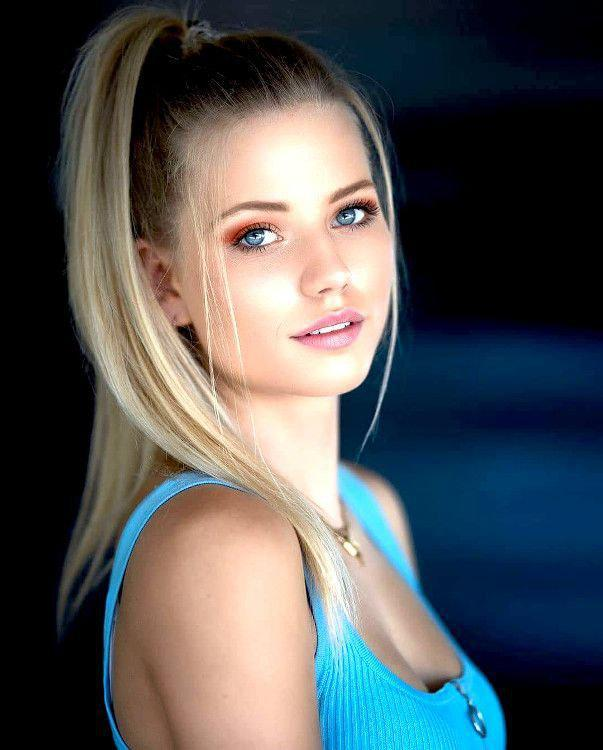Sober: (206, 129, 388, 398)
